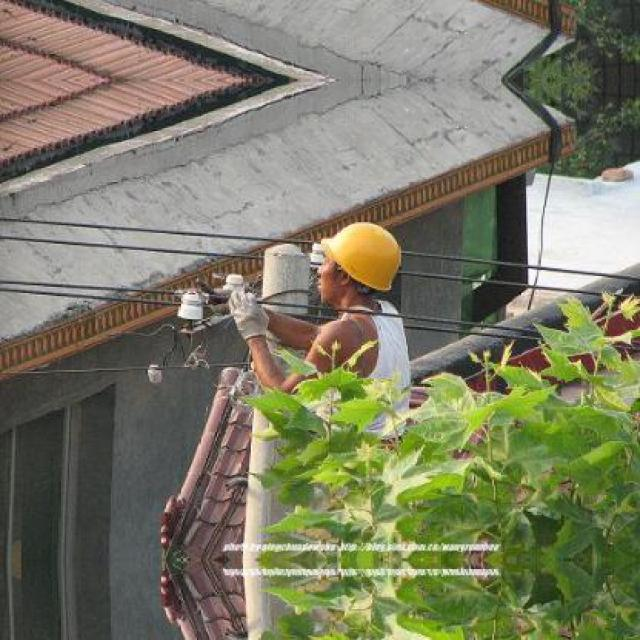helmet: (314, 216, 408, 310)
